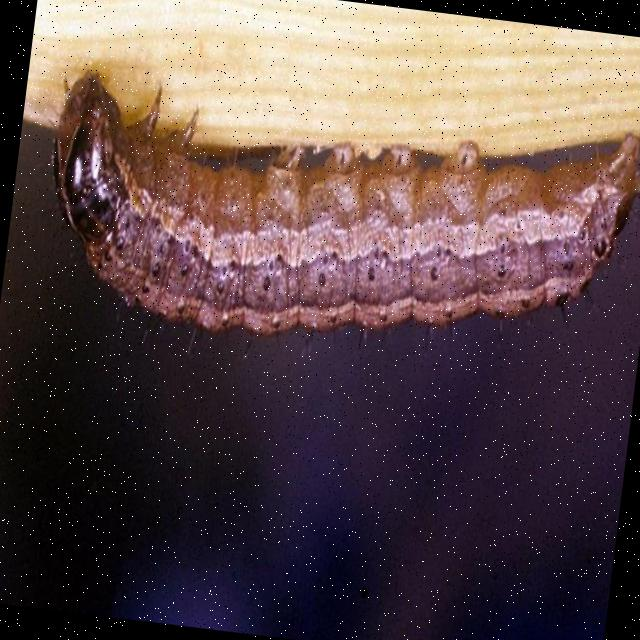worm: (30, 59, 640, 386)
